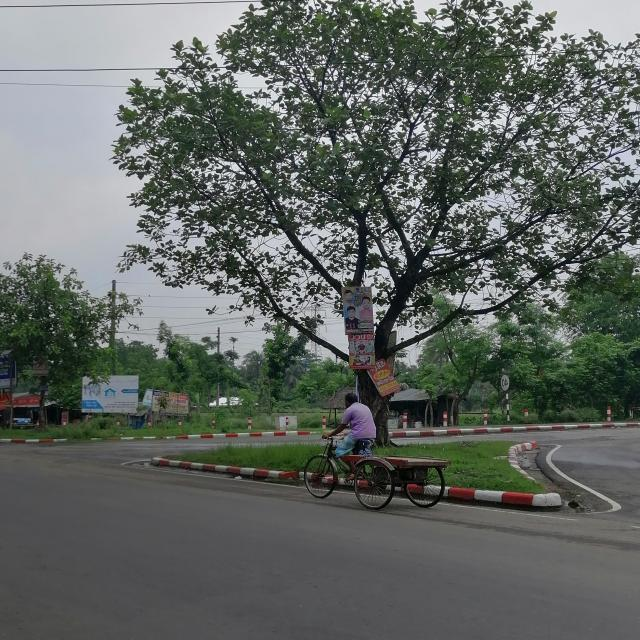Van: (289, 427, 455, 518)
